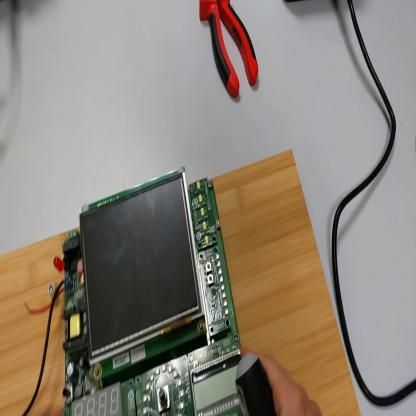hand: (243, 343, 324, 415)
low voltage board: (25, 166, 245, 414)
pliers: (202, 1, 261, 99)
screwdriver-: (239, 346, 276, 414)
working area: (1, 148, 360, 416)
